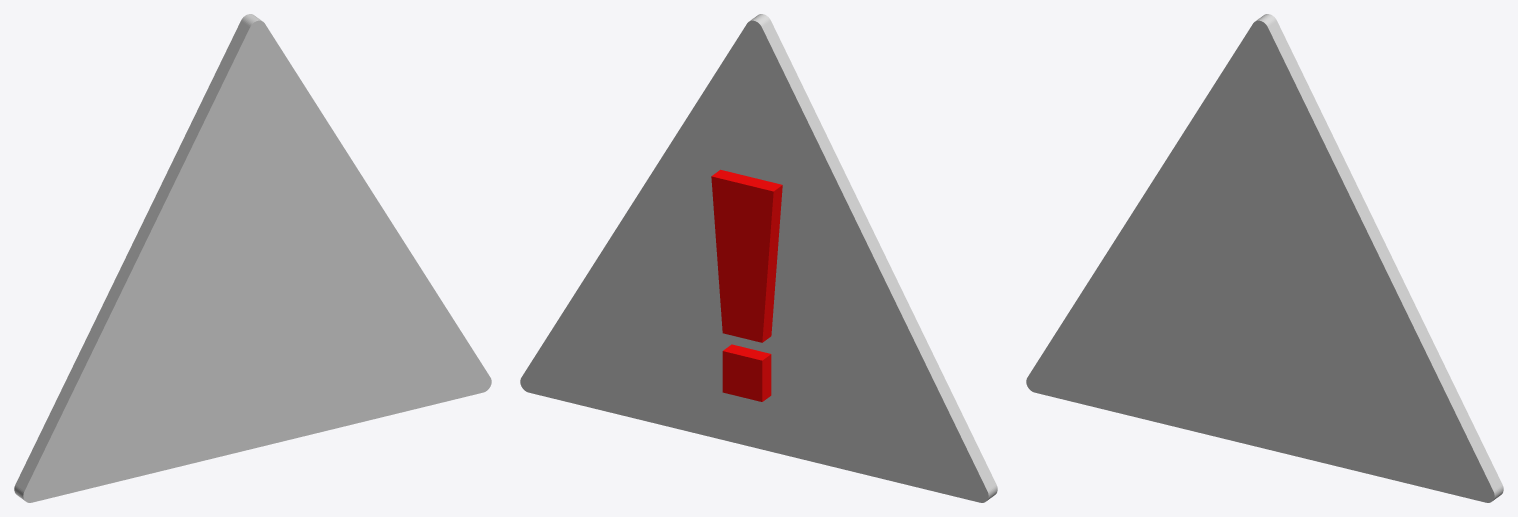
3 renders of one model, left to right at view 1: azimuth 30°, elevation 25°; view 2: azimuth 150°, elevation 25°; view 3: azimuth 330°, elevation 25°, orthographic.
Visible parts, largest first — view 1: 001_back_1; view 2: 001_back_1, 000_Warn_0; view 3: 001_back_1.
Part boxes in pixels (x1,y1,x2,y2): 001_back_1: (14, 14, 491, 502); 001_back_1: (520, 14, 997, 502); 000_Warn_0: (711, 169, 782, 401); 001_back_1: (1026, 14, 1503, 502).
Size of the model in its own units: 0.0889 by 0.0774 by 0.00599.
